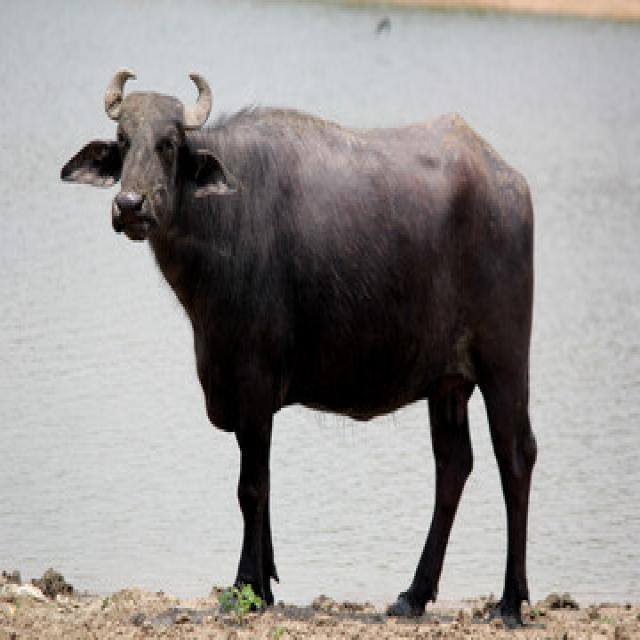Buffalo: (57, 61, 540, 627)
